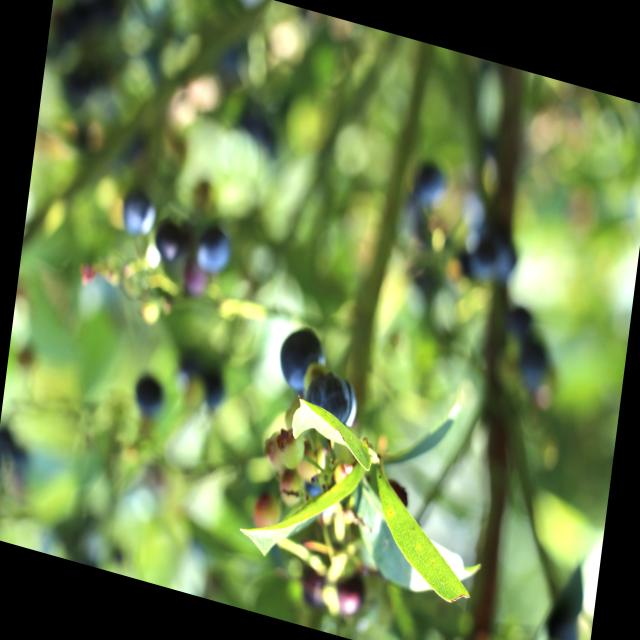blueberry: (270, 316, 329, 398), (303, 368, 362, 440), (194, 226, 233, 278), (119, 192, 156, 242), (155, 221, 185, 266)
blueberry-unripe: (276, 427, 308, 472), (263, 428, 287, 472), (279, 470, 302, 508)
